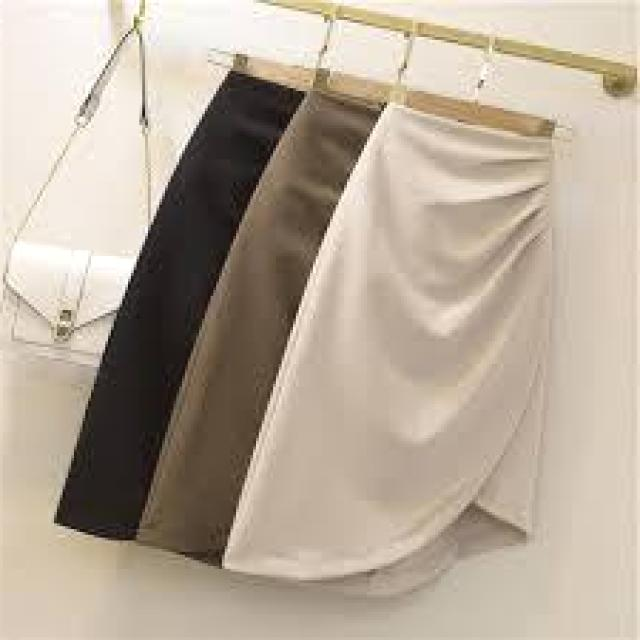skirt: (239, 108, 592, 620)
